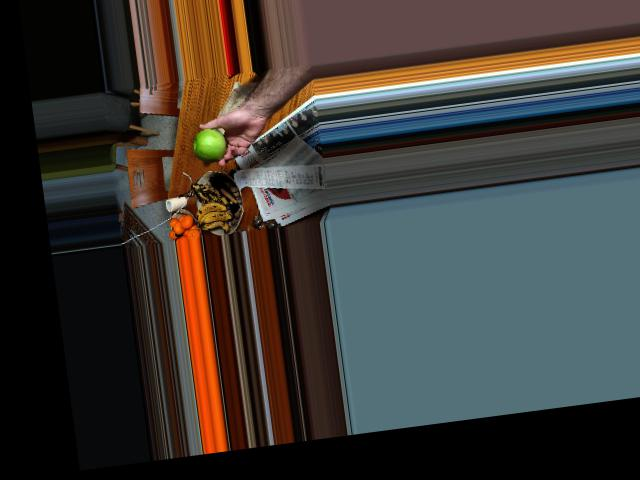apple: (192, 126, 230, 165)
